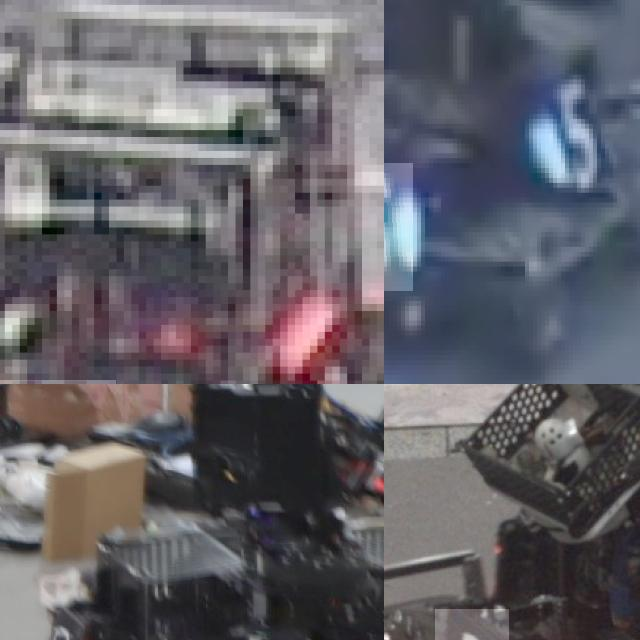B5: (537, 84, 617, 188), (384, 163, 413, 291)
R3: (435, 609, 508, 640)
Rs: (38, 615, 87, 640)
